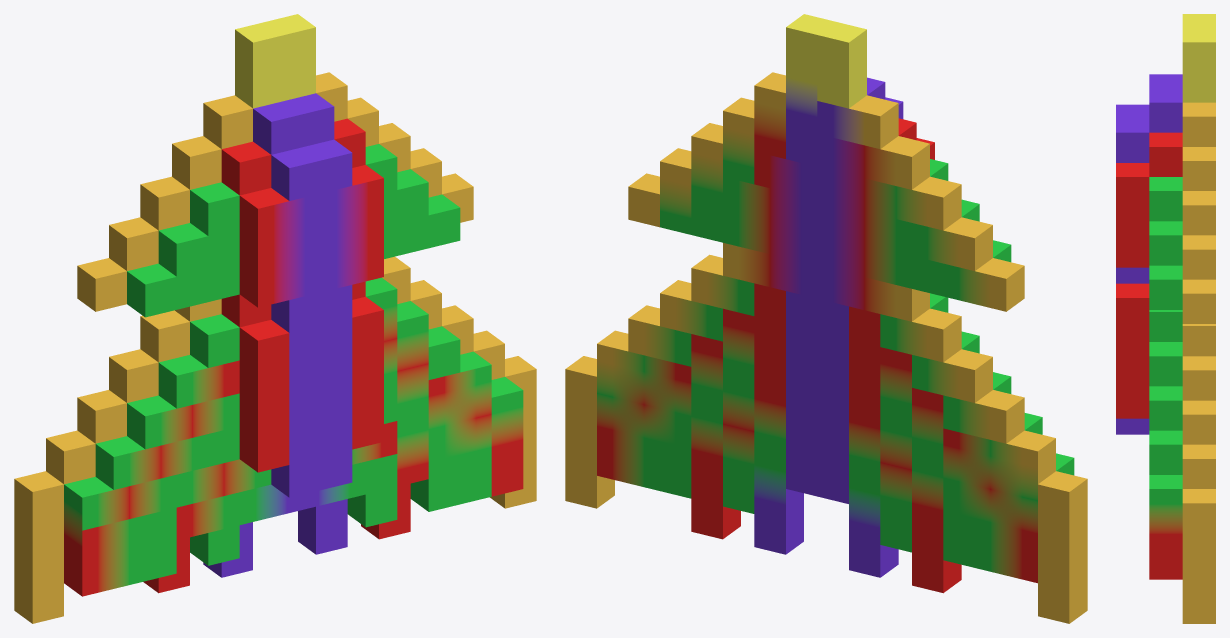
File: Matrix_4.fbx
The picture shows the model from 3 angles, left to right: view 1: azimuth 30°, elevation 25°; view 2: azimuth 150°, elevation 25°; view 3: azimuth 270°, elevation 25°; orthographic projection. The views are drawn at different scales.
Parts seen in each view (by area): view 1: Matrix_4; view 2: Matrix_4; view 3: Matrix_4.
Part boxes in pixels (x1,y1,x2,y2): Matrix_4: (14,14,536,623); Matrix_4: (565,14,1087,623); Matrix_4: (1116,14,1215,623).
Bounding box in the file's own units: 16 × 16 × 3.
